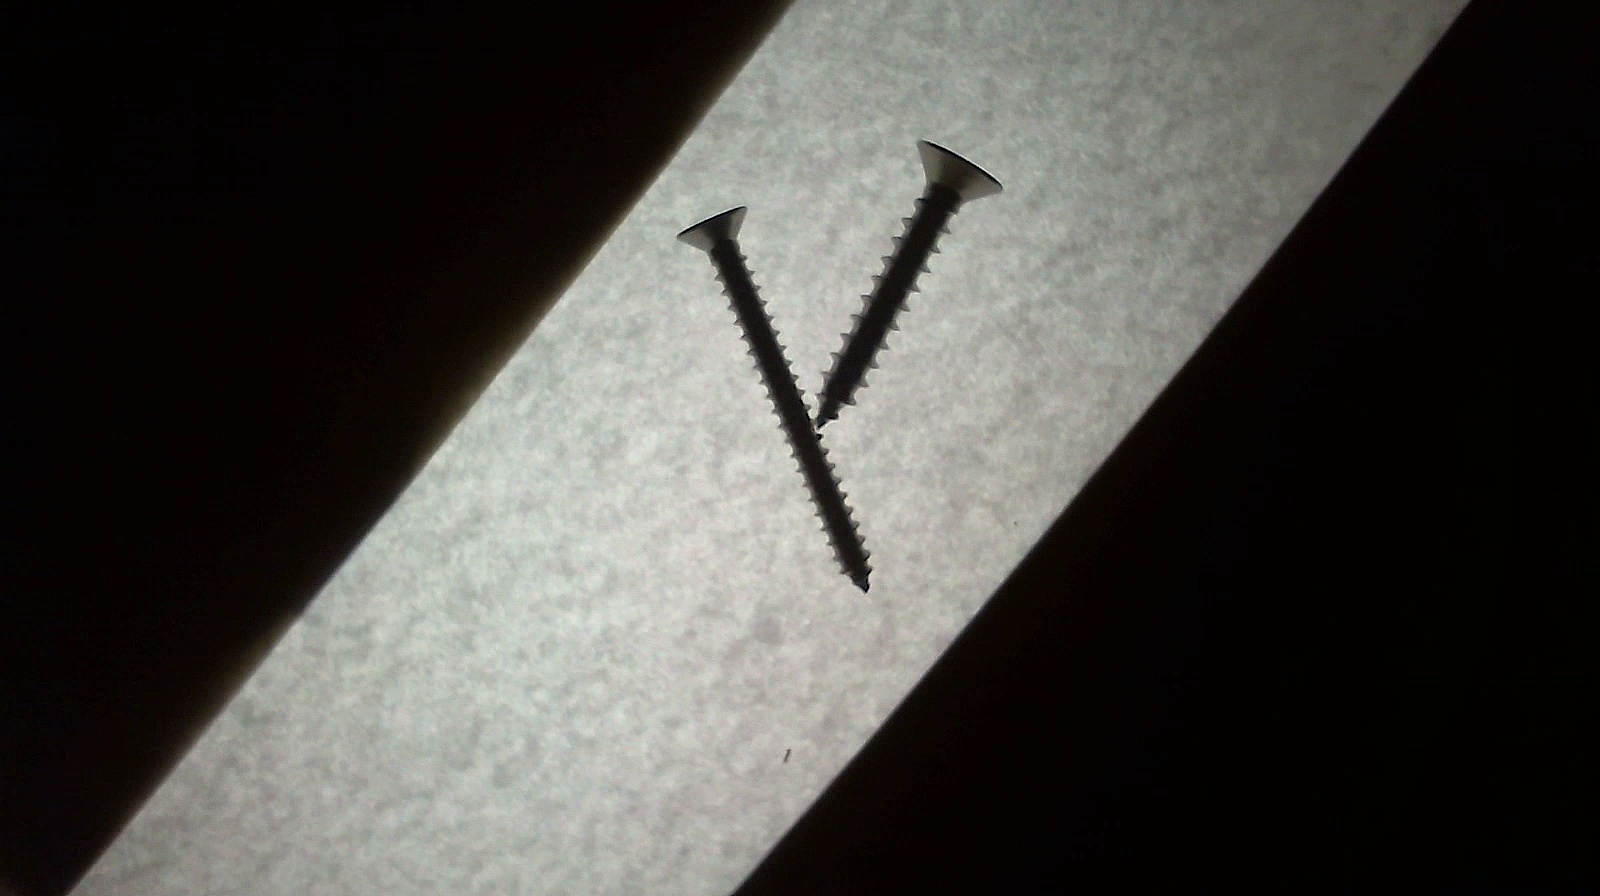S001: (814, 139, 1003, 432)
S002: (680, 207, 871, 598)
